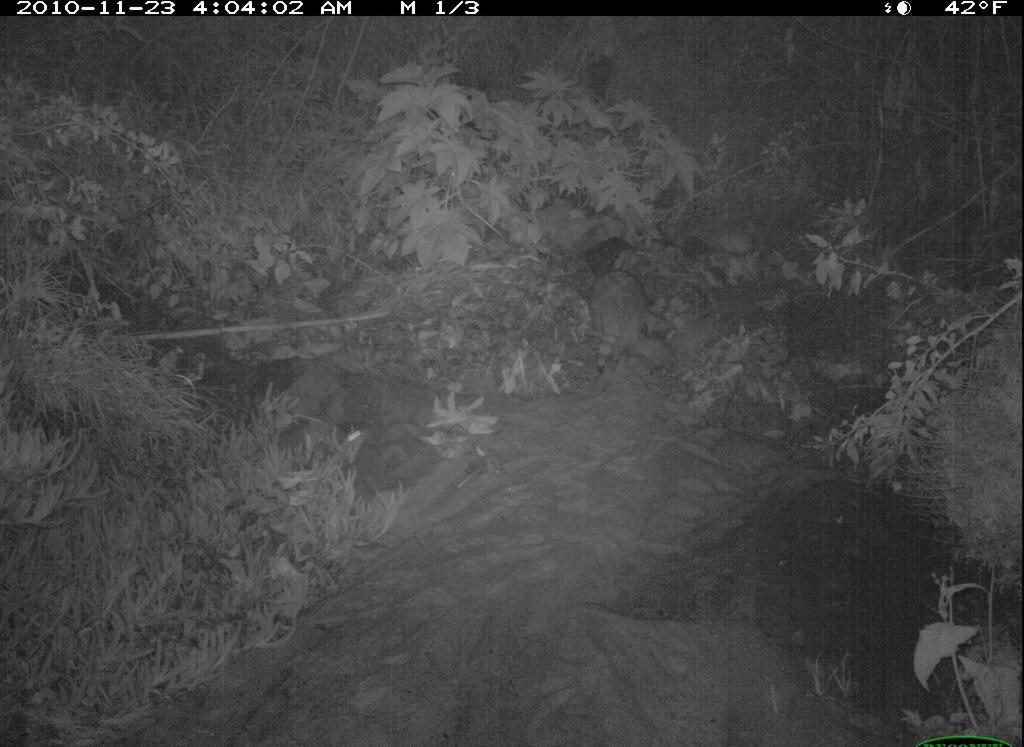raccoon: (582, 259, 653, 381)
